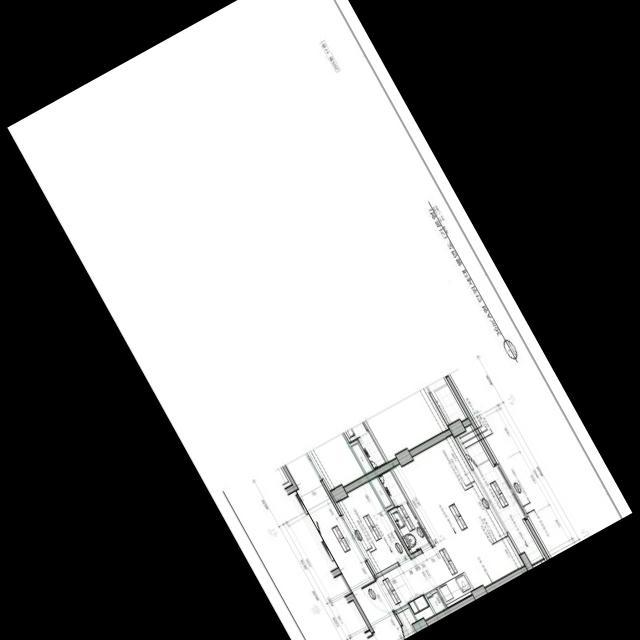background: (7, 0, 633, 640)
space_balconi: (456, 425, 543, 564)
space_bedroom: (337, 481, 409, 573)
space_front: (377, 562, 435, 620)
space_kitchen: (392, 464, 474, 607)
space_living_room: (405, 435, 524, 589)
space_other: (296, 478, 407, 640), (370, 477, 391, 507), (398, 607, 416, 636), (428, 592, 445, 613)
space_toilet: (379, 470, 430, 553)
